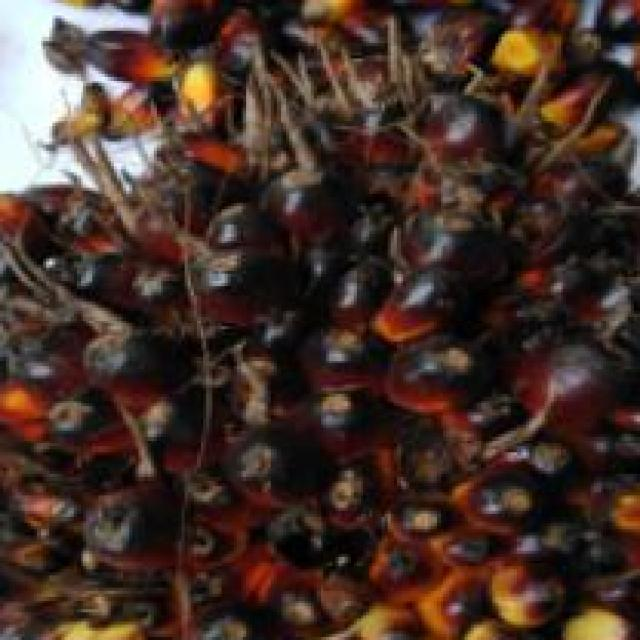underripe: (0, 95, 640, 640)
